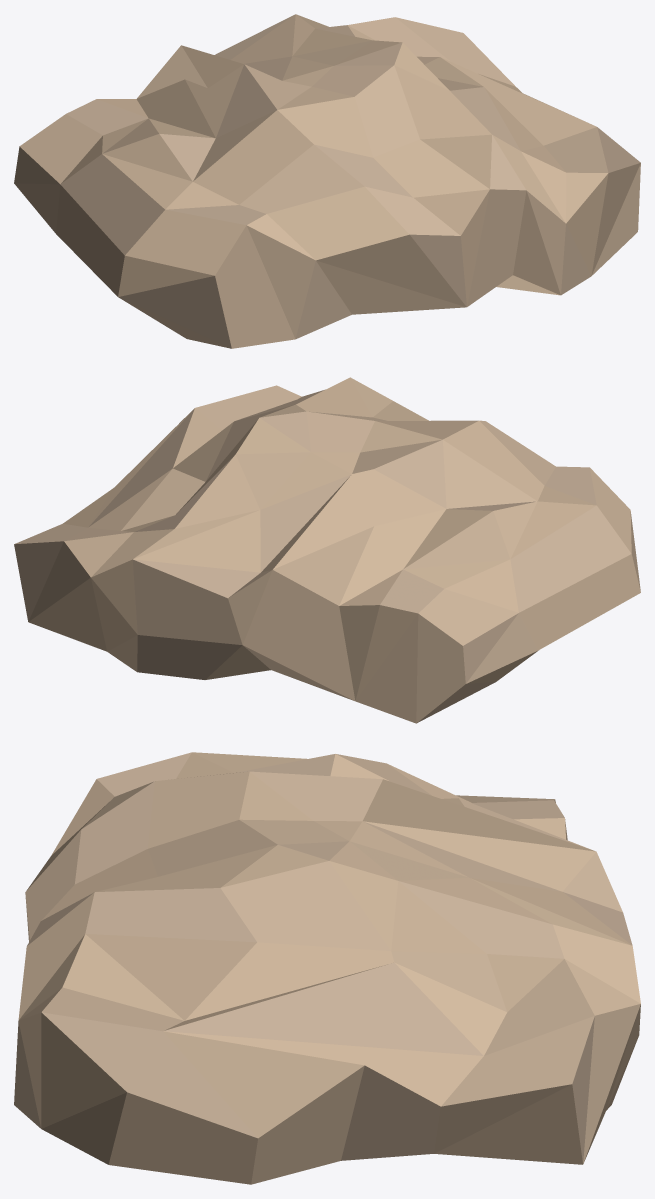
The model's file is raw_wool_resource.fbx.
The picture shows the model from 3 angles, top to bottom: view 1: azimuth 30°, elevation 25°; view 2: azimuth 150°, elevation 25°; view 3: azimuth 270°, elevation 25°; orthographic projection. The views are drawn at different scales.
Parts seen in each view (by area): view 1: raw_wool; view 2: raw_wool; view 3: raw_wool.
Part boxes in pixels (bbox=[...]): raw_wool: bbox=[14, 14, 640, 348]; raw_wool: bbox=[14, 377, 640, 723]; raw_wool: bbox=[14, 752, 640, 1184].
Size of the model in its own units: 37.99 by 13.39 by 31.99.
